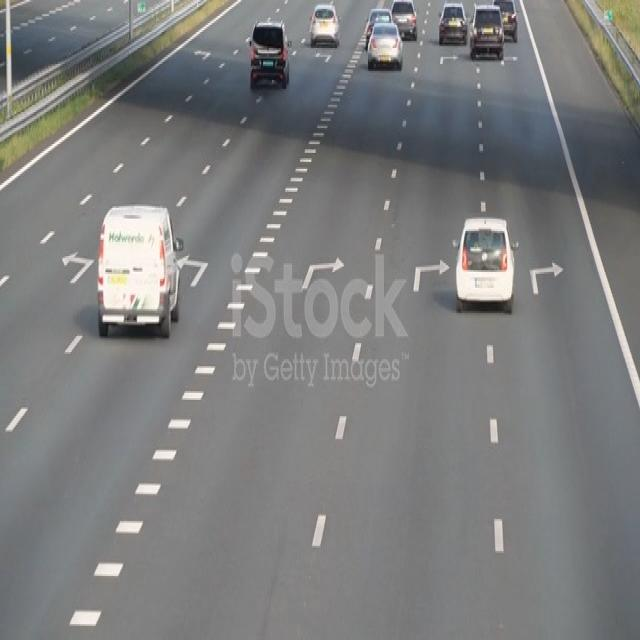Car: (451, 213, 517, 317), (249, 20, 291, 90), (468, 3, 506, 63), (363, 23, 405, 65), (436, 1, 469, 47), (309, 0, 341, 47), (496, 0, 522, 42), (392, 0, 418, 37)
Truck: (96, 200, 182, 338)
